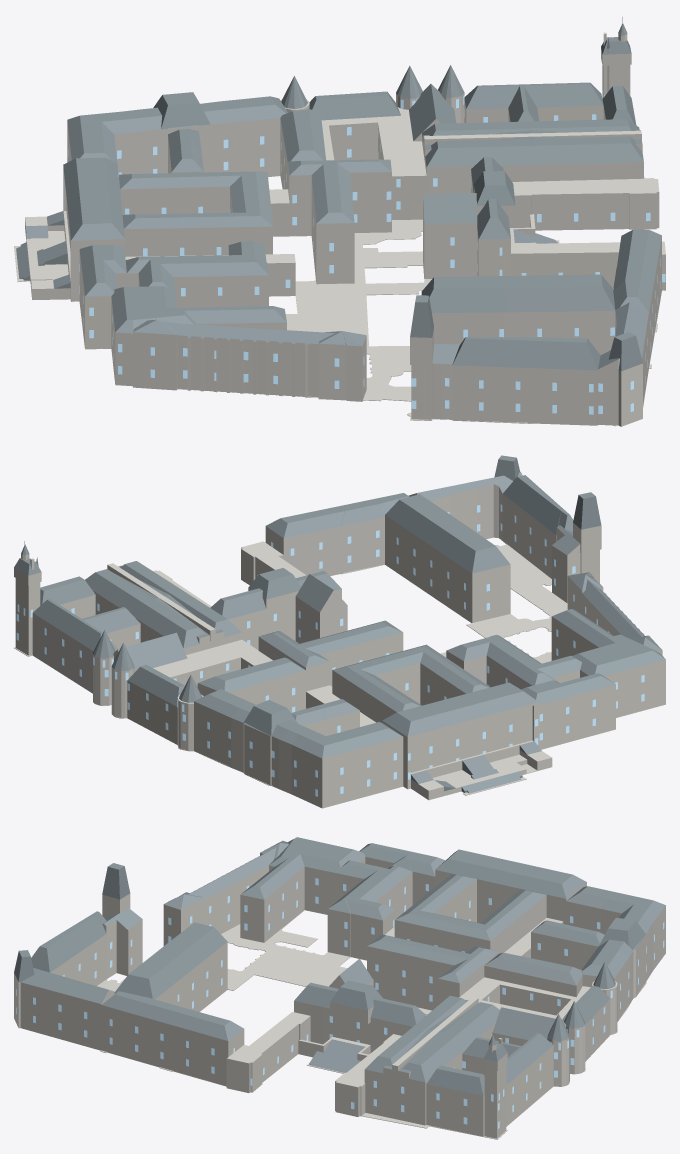
Rendered from detail.glb.
The picture shows the model from 3 angles, top to bottom: view 1: azimuth 30°, elevation 25°; view 2: azimuth 150°, elevation 25°; view 3: azimuth 270°, elevation 25°; orthographic projection. The views are drawn at different scales.
Parts seen in each view (by area): view 1: stone, roof, window; view 2: stone, roof, window; view 3: stone, roof, window.
Part boxes in pixels (x1,y1,x2,y2): stone: (14, 32, 665, 426); roof: (16, 17, 661, 371); window: (67, 90, 665, 414); stone: (14, 484, 665, 808); roof: (14, 455, 665, 793); window: (16, 504, 644, 796); stone: (14, 853, 665, 1139); roof: (14, 837, 665, 1095); window: (16, 878, 664, 1128).
Size of the model in its own units: 241 by 47 by 257.
